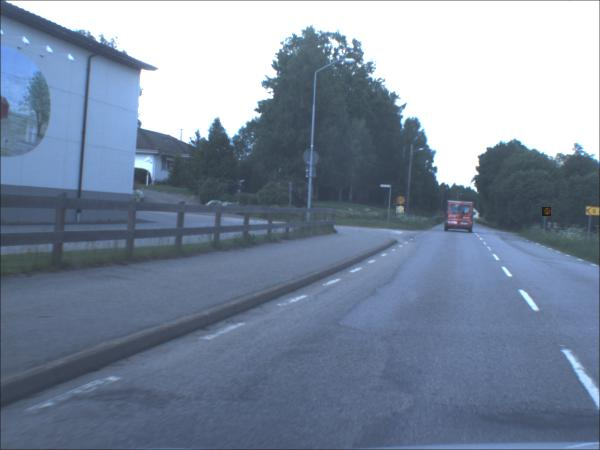70_SIGN: (396, 197, 406, 207), (542, 208, 552, 218)
PRIORITY_ROAD: (396, 207, 405, 215)
